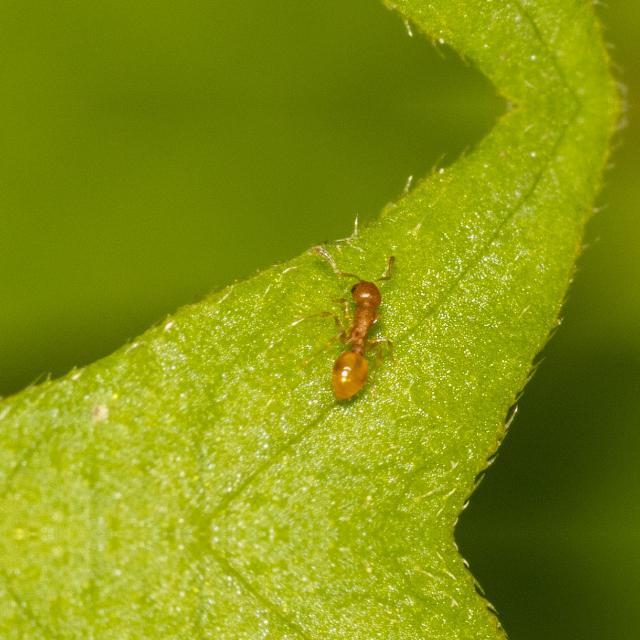Temnothorax: (310, 252, 410, 428)
